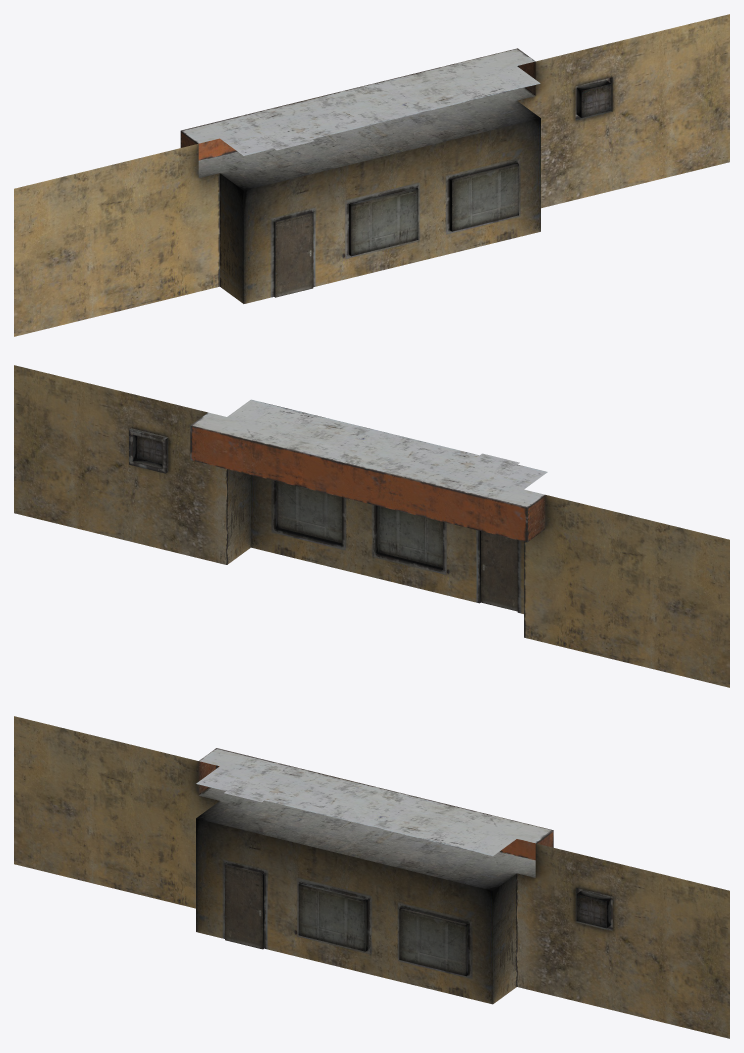
File: Wall_T02.FBX
3 renders of one model, top to bottom at view 1: azimuth 30°, elevation 25°; view 2: azimuth 150°, elevation 25°; view 3: azimuth 330°, elevation 25°, orthographic.
Visible parts, largest first — view 1: Wall_T02; view 2: Wall_T02; view 3: Wall_T02.
Boxes of the visible parts, x1,y1,x2,y2 form: Wall_T02: (14,14,729,336); Wall_T02: (14,365,729,687); Wall_T02: (14,716,729,1038).
Bounding box in the file's own units: 2586 × 511 × 278.
